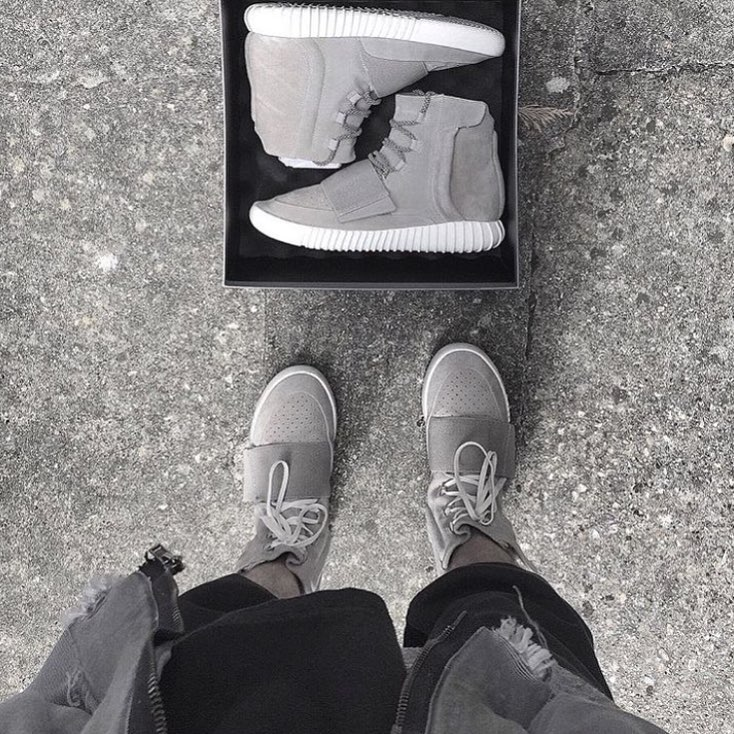sneaker: (392, 327, 546, 589), (218, 350, 355, 620)
